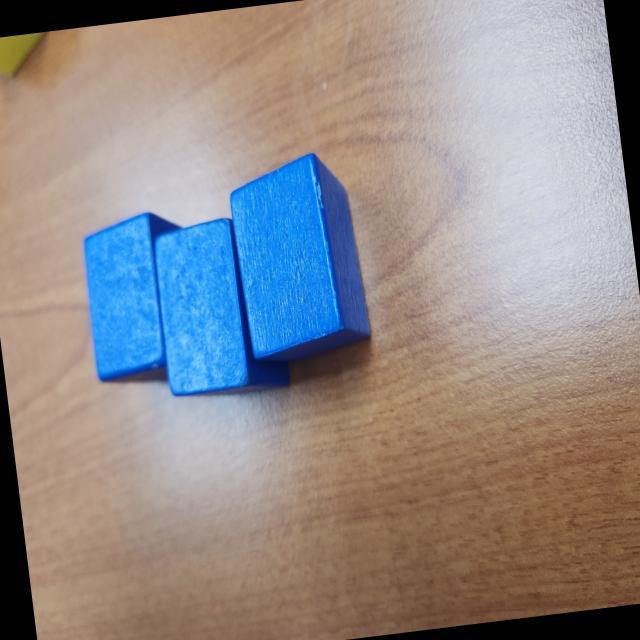blue: (224, 148, 374, 374), (147, 210, 291, 403), (76, 207, 203, 388)
yellow: (0, 30, 58, 83)
